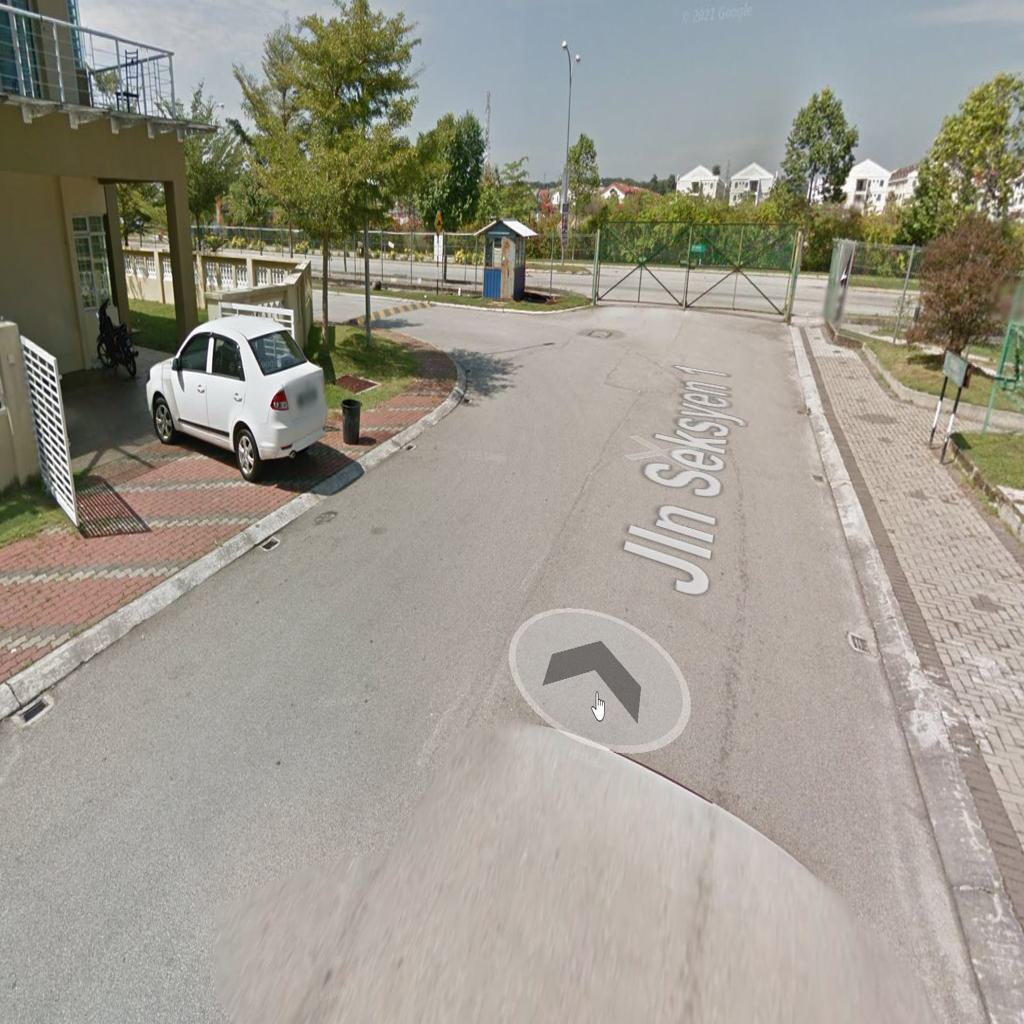Junction: (329, 260, 568, 417)
